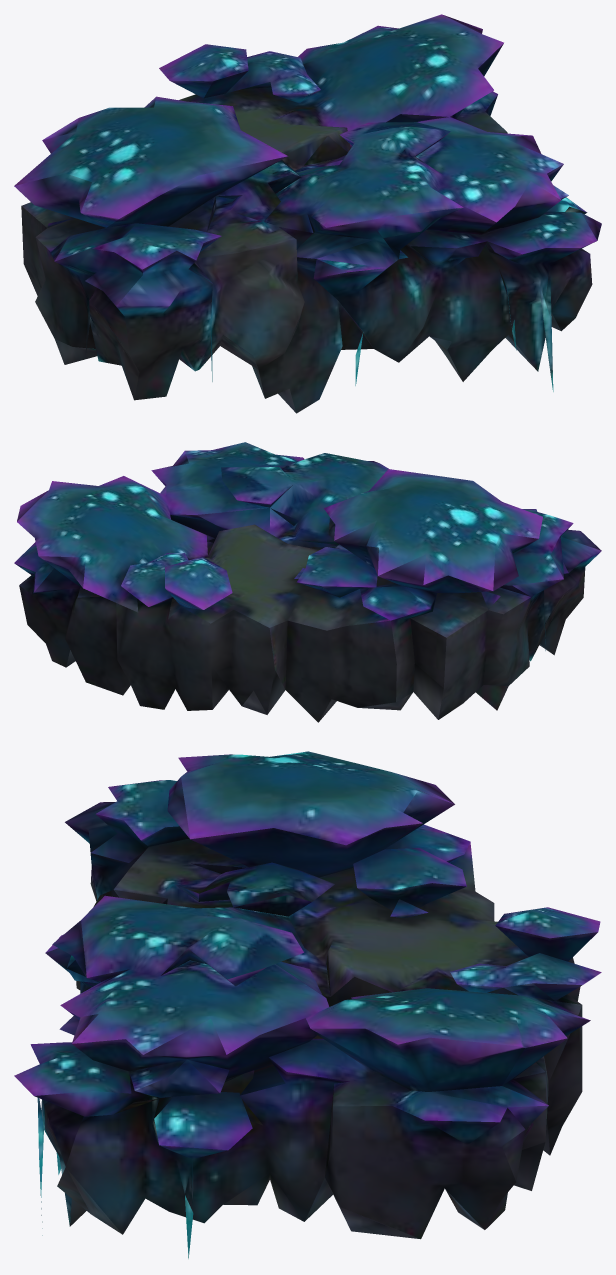
File: d_mycelium_cime.glb
3 renders of one model, top to bottom at view 1: azimuth 30°, elevation 25°; view 2: azimuth 150°, elevation 25°; view 3: azimuth 270°, elevation 25°, orthographic. The views are drawn at different scales.
Visible parts, largest first — view 1: geometry_0; view 2: geometry_0; view 3: geometry_0.
Boxes of the visible parts, bbox=[...] form: geometry_0: bbox=[14, 14, 601, 413]; geometry_0: bbox=[14, 442, 601, 722]; geometry_0: bbox=[14, 751, 601, 1258].
Size of the model in its own units: 0.9833 by 0.4584 by 0.7923.
Materials: 1 (1 with a texture image).
